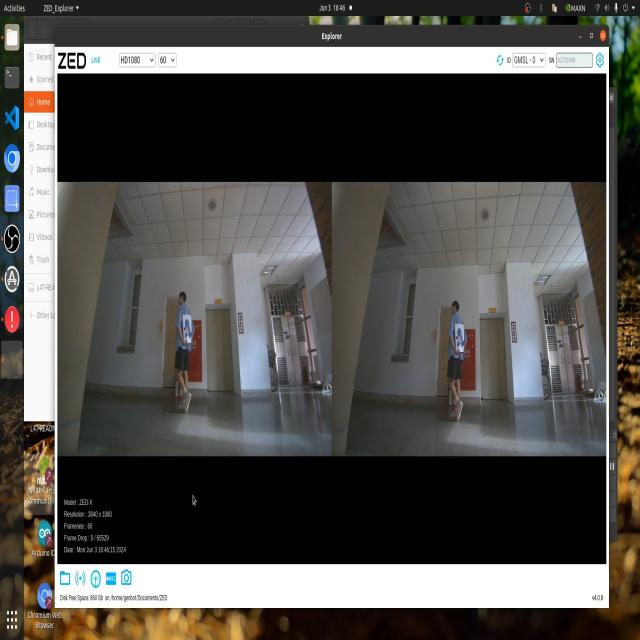blue: (451, 322, 466, 350), (183, 313, 193, 351)
